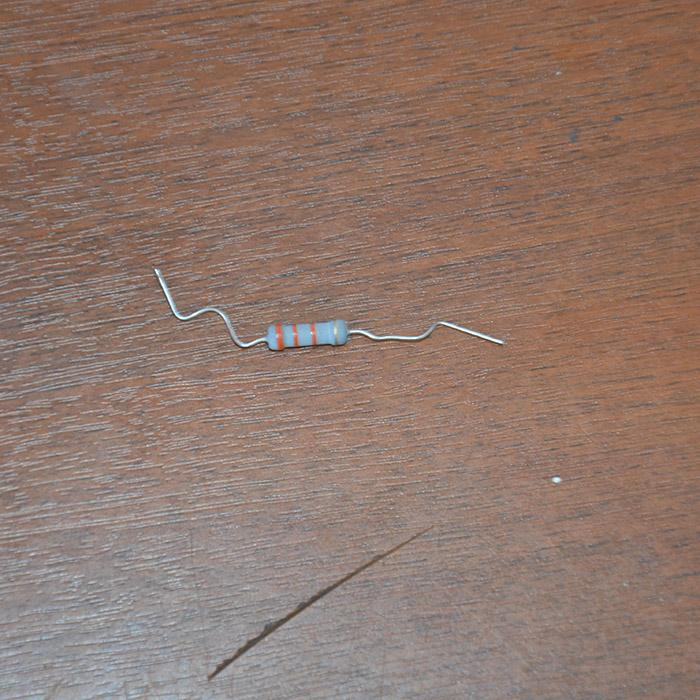resistor: (266, 318, 347, 350)
